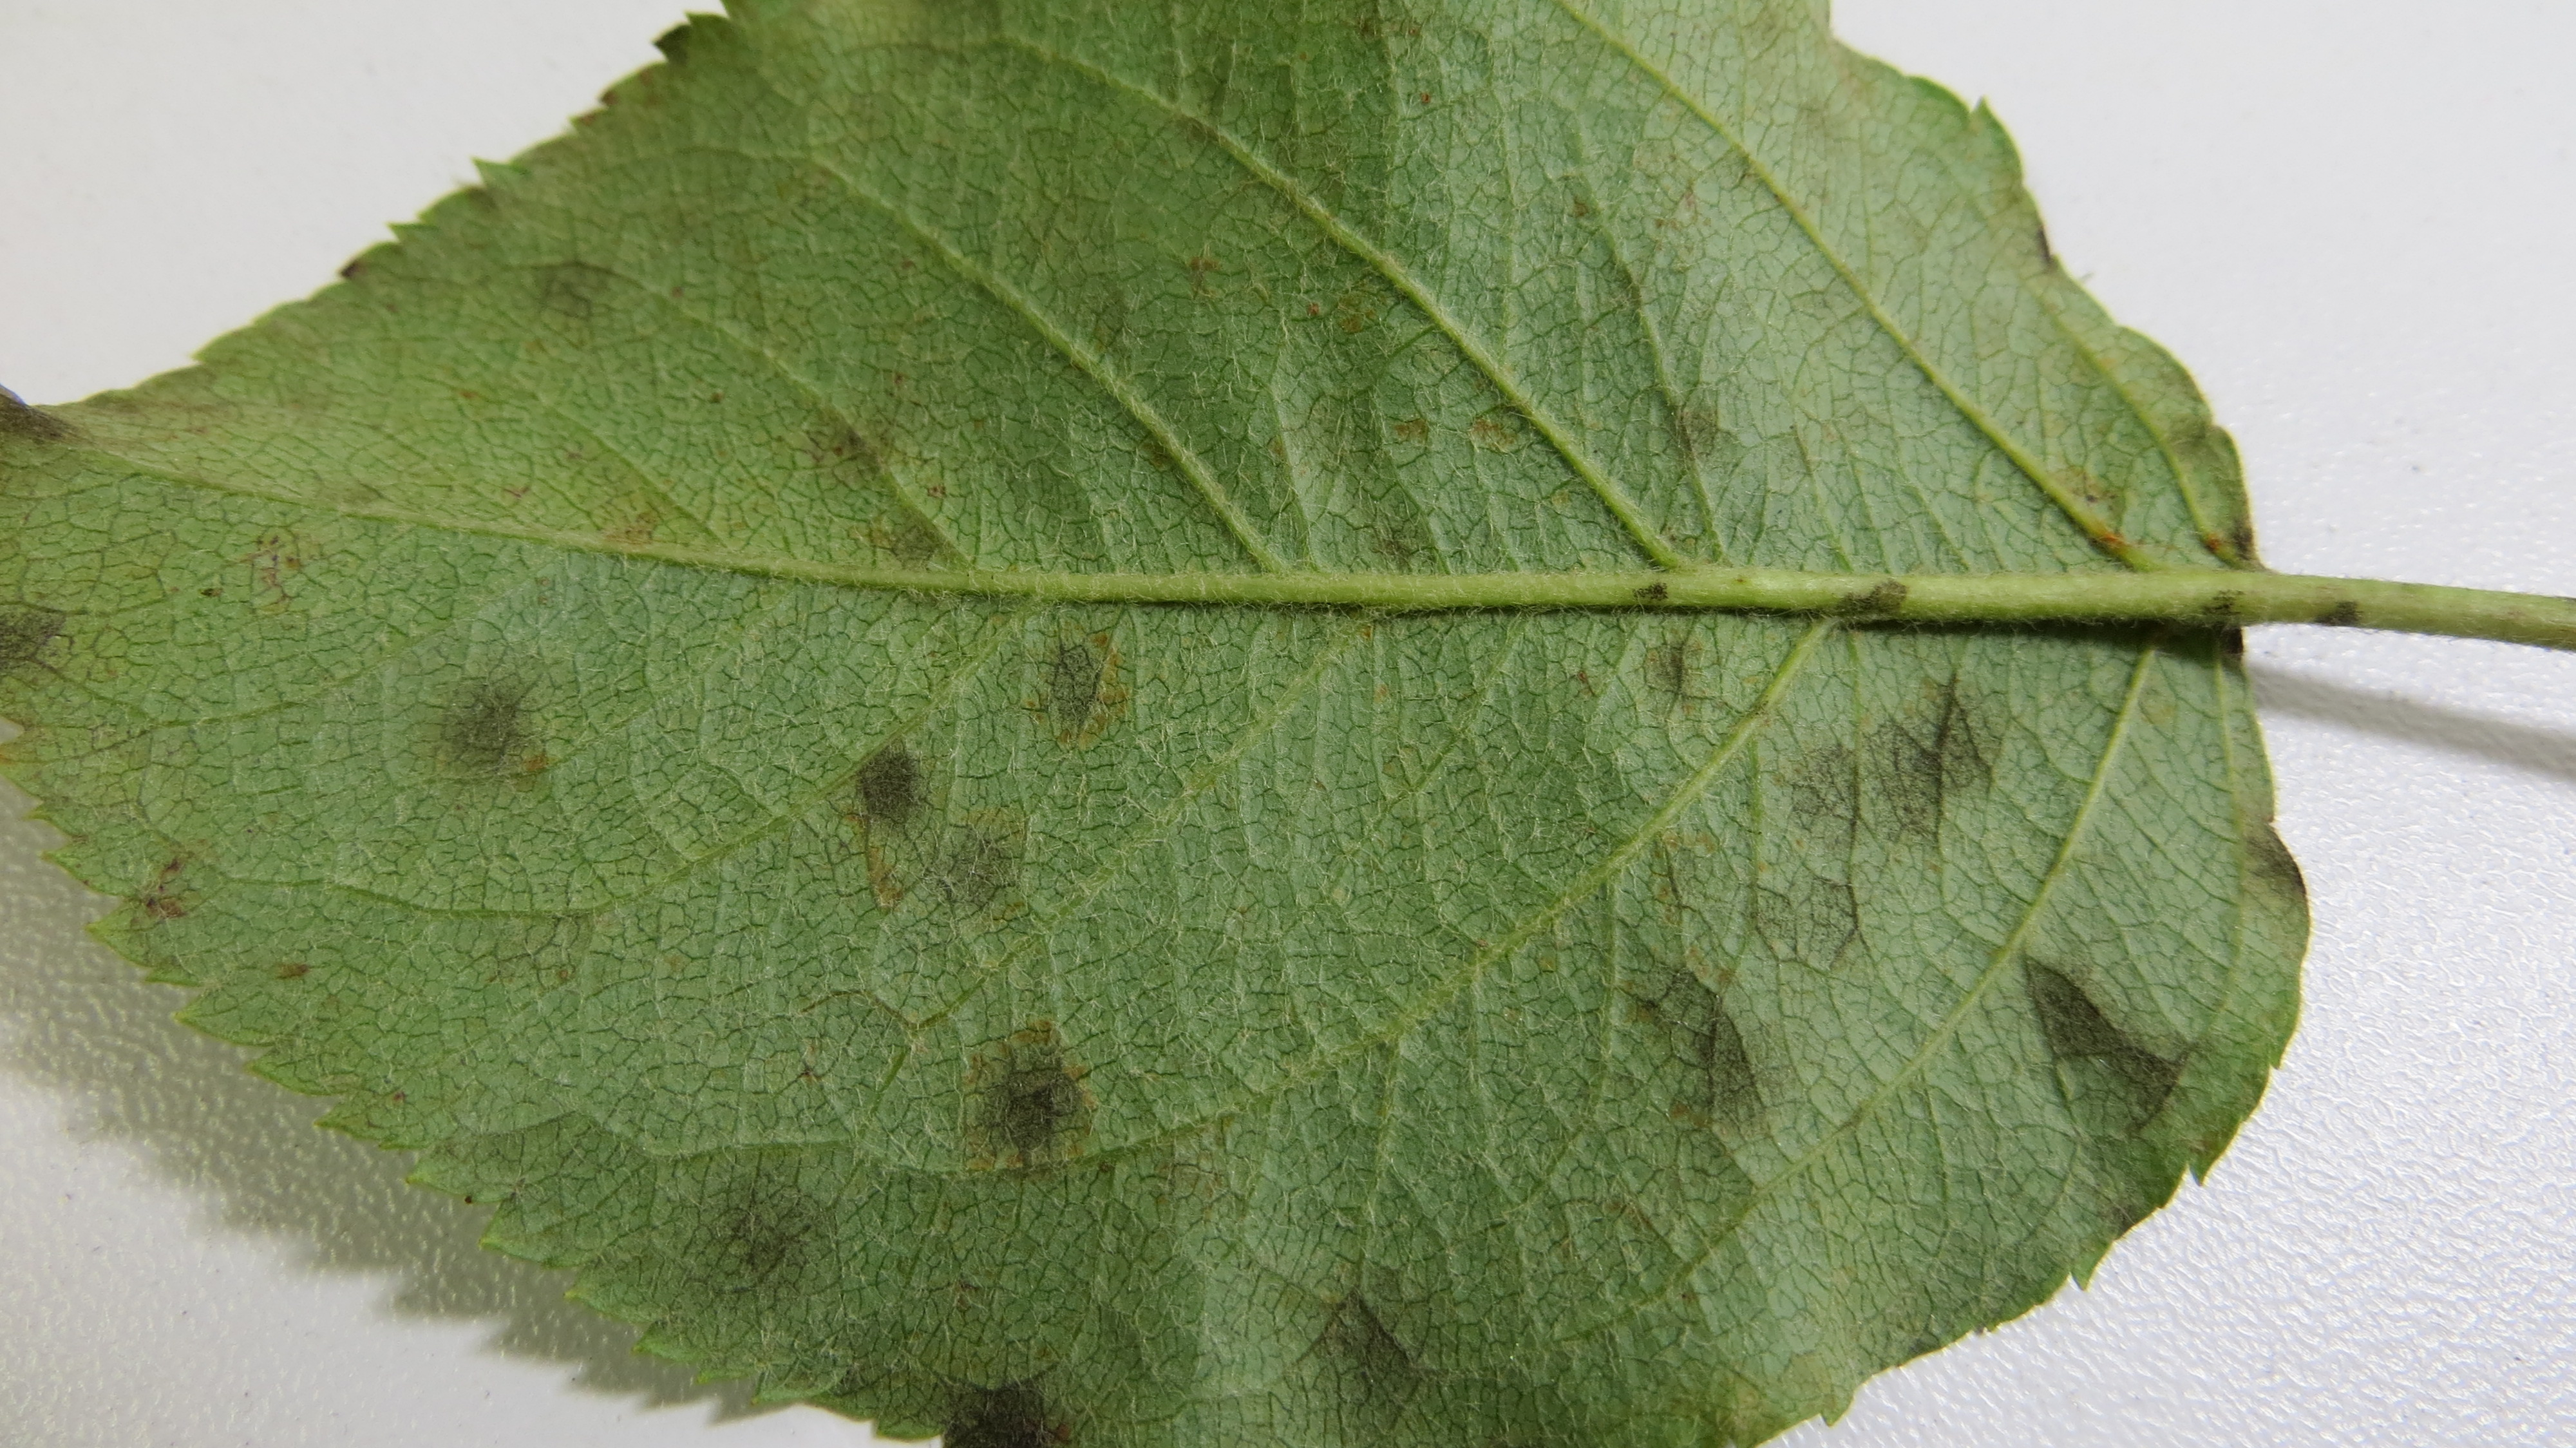sarna: (1773, 666, 2005, 850), (1622, 931, 1790, 1138), (2015, 935, 2185, 1112), (948, 998, 1095, 1147), (419, 637, 556, 793), (1637, 342, 1762, 501), (694, 1138, 837, 1276), (904, 1321, 1067, 1427), (1017, 614, 1131, 751), (1621, 607, 1739, 722), (821, 715, 945, 825), (504, 228, 632, 331), (1764, 859, 1882, 963), (780, 365, 892, 473), (925, 813, 1035, 915), (12, 558, 103, 680), (863, 490, 968, 579)
